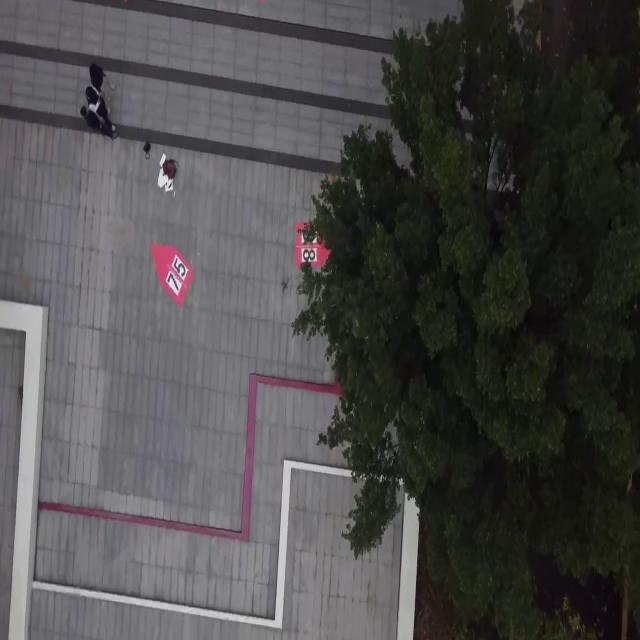-sign-: (150, 241, 194, 307)
